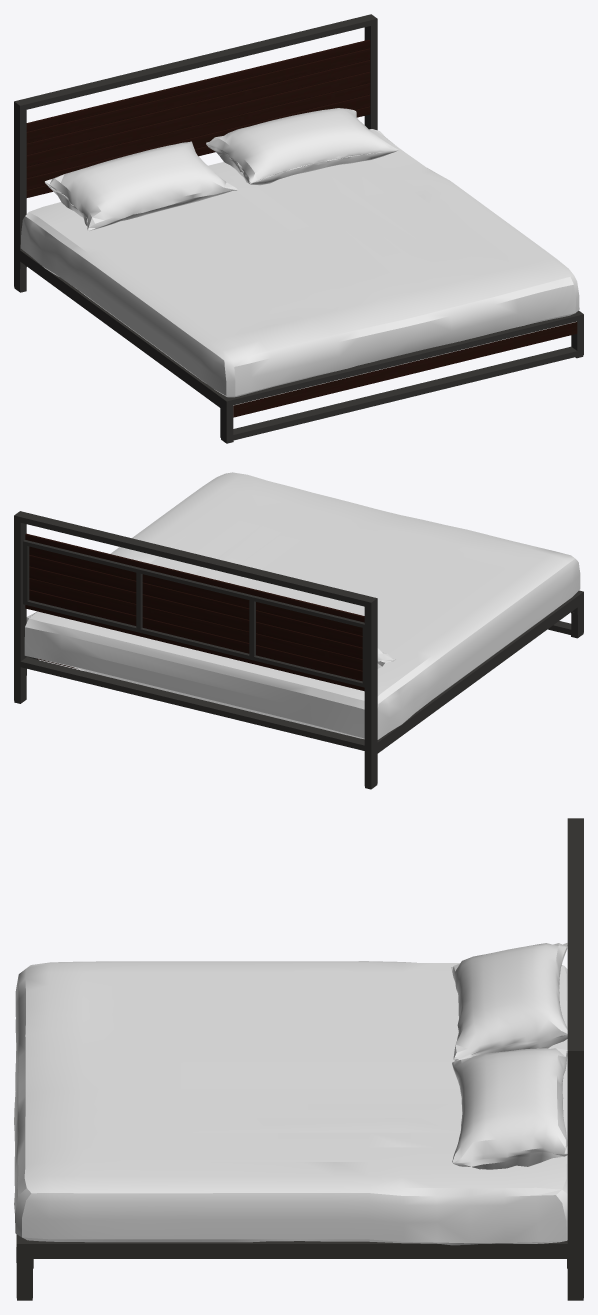
3 renders of one model, top to bottom at view 1: azimuth 30°, elevation 25°; view 2: azimuth 150°, elevation 25°; view 3: azimuth 270°, elevation 25°, orthographic. The views are drawn at different scales.
Parts seen in each view (by area): view 1: C-skp3161; view 2: C-skp3161; view 3: C-skp3161.
Boxes of the visible parts, x1,y1,x2,y2 form: C-skp3161: (14, 14, 583, 443); C-skp3161: (14, 472, 583, 789); C-skp3161: (14, 818, 583, 1300).
Size of the model in its own units: 2.02 by 1 by 2.07.
Materials: 3 (1 with a texture image).
